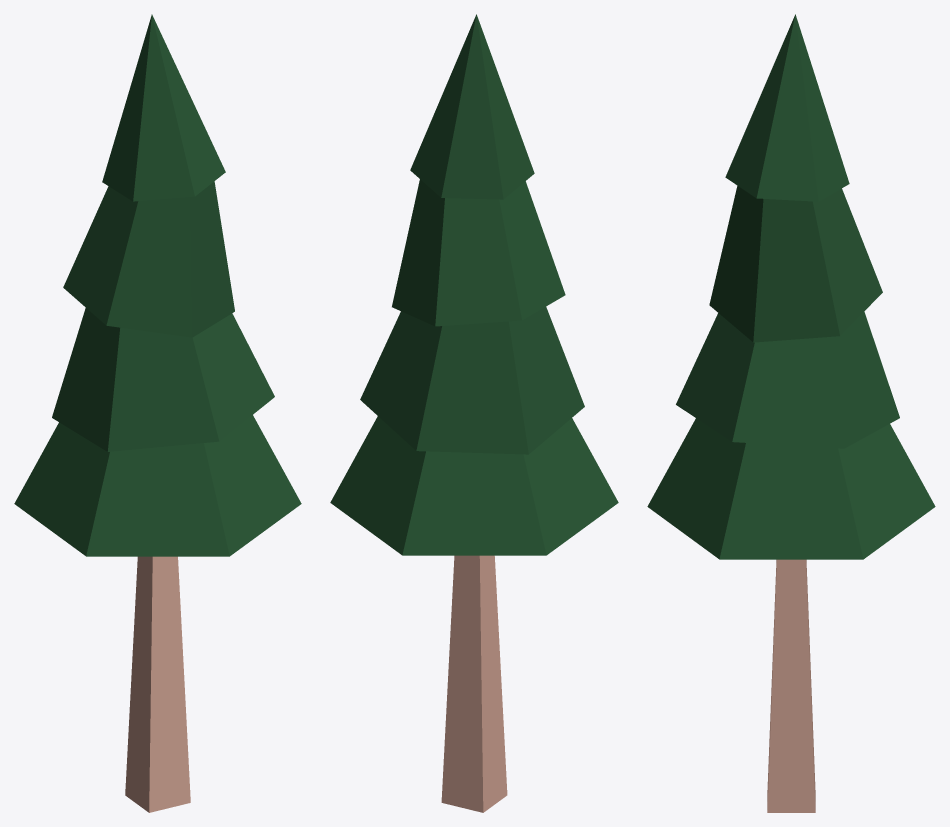
The model's file is proto_pine_c.glb.
The picture shows the model from 3 angles, left to right: view 1: azimuth 30°, elevation 25°; view 2: azimuth 150°, elevation 25°; view 3: azimuth 270°, elevation 25°; orthographic projection.
Parts seen in each view (by area): view 1: tree_pineTallC; view 2: tree_pineTallC; view 3: tree_pineTallC.
Boxes of the visible parts, x1=… form: tree_pineTallC: x1=14, y1=14, x2=301, y2=812; tree_pineTallC: x1=330, y1=14, x2=618, y2=812; tree_pineTallC: x1=647, y1=14, x2=935, y2=812.
Size of the model in its own units: 3.45 by 12 by 3.98.
